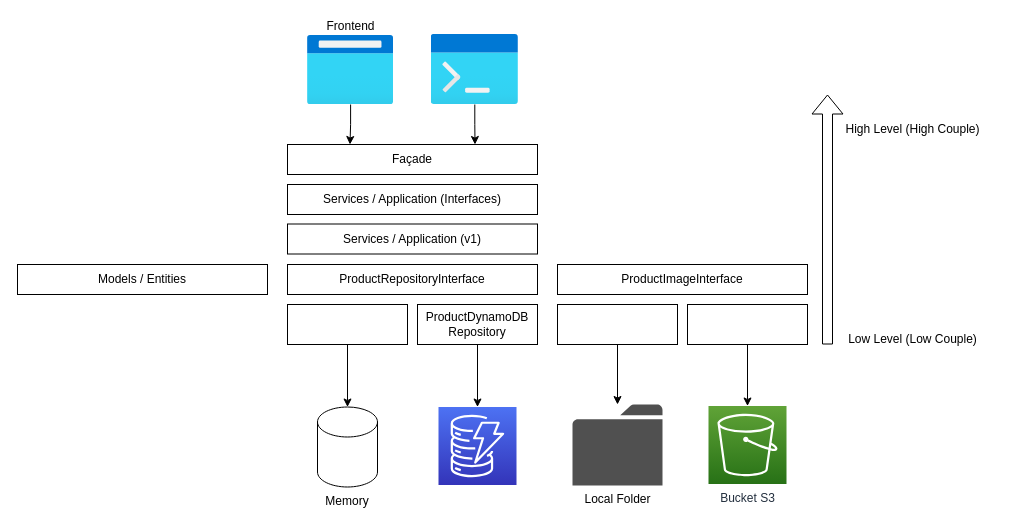
The diagram is 1010 pixels wide and 525 high, and some of its shapes have lost their labels. The shapes that lost their labels are listed below. From the top down, each one's centre as x and y in pixels, then its label:
At (x=474, y=69): "Console".
At (x=347, y=324): "ProductMemory Repository".
At (x=617, y=324): "ProductFolder Repository".
At (x=747, y=324): "ProductS3 Repository".
At (x=477, y=445): "DynamoDb".
